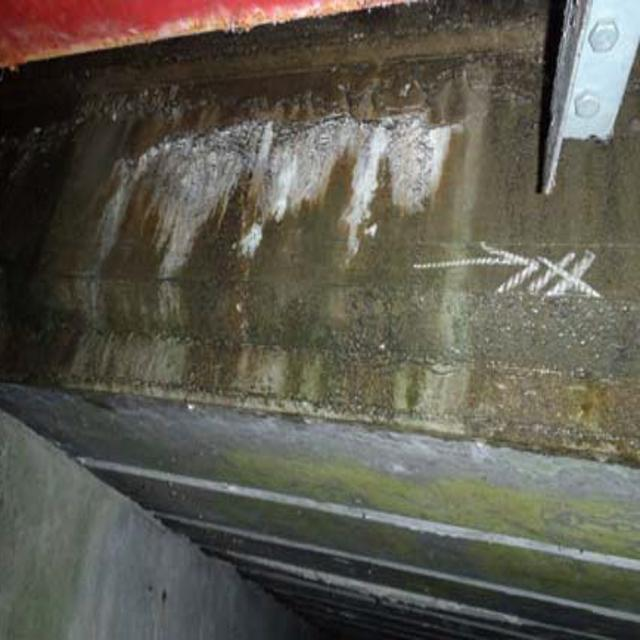freelime: (99, 132, 464, 252)
